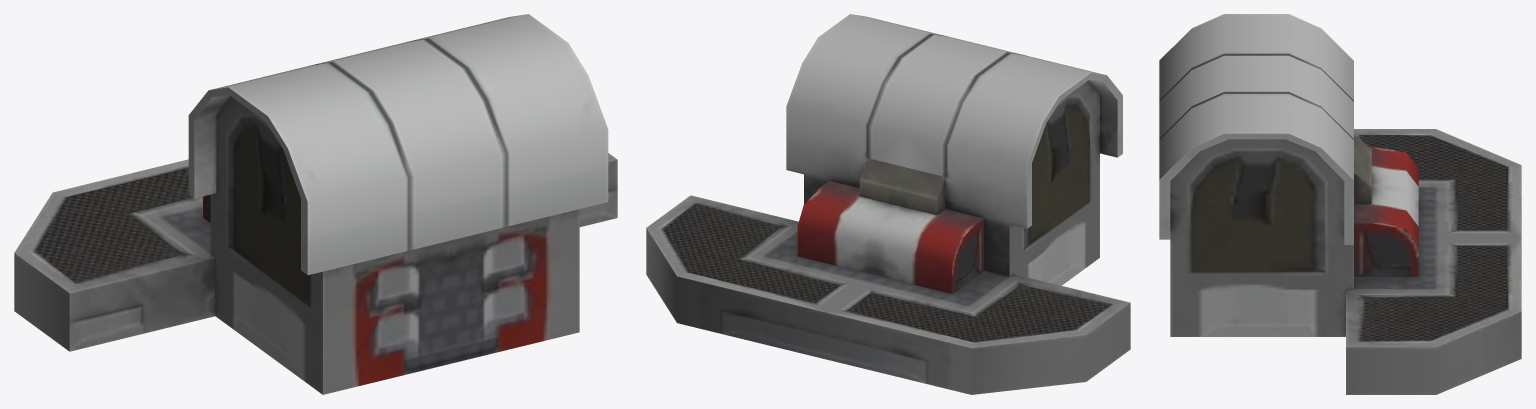
Rendered from Part - Addon 08-BR9ZB4HW.glb.
3 views of the same model, side by side, from view 1: azimuth 30°, elevation 25°; view 2: azimuth 150°, elevation 25°; view 3: azimuth 270°, elevation 25° (orthographic). The views are drawn at different scales.
Parts seen in each view (by area): view 1: Addon_08; view 2: Addon_08; view 3: Addon_08.
Part boxes in pixels (x1=…): Addon_08: x1=14, y1=14, x2=617, y2=394; Addon_08: x1=646, y1=14, x2=1130, y2=394; Addon_08: x1=1159, y1=14, x2=1521, y2=394.
Size of the model in its own units: 1.87 by 0.8461 by 1.31.
Materials: 1 (1 with a texture image).
